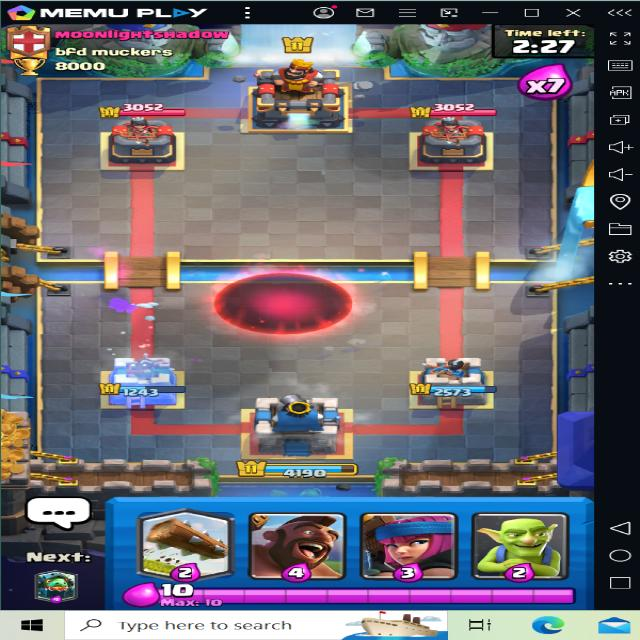void: (207, 272, 352, 334)
